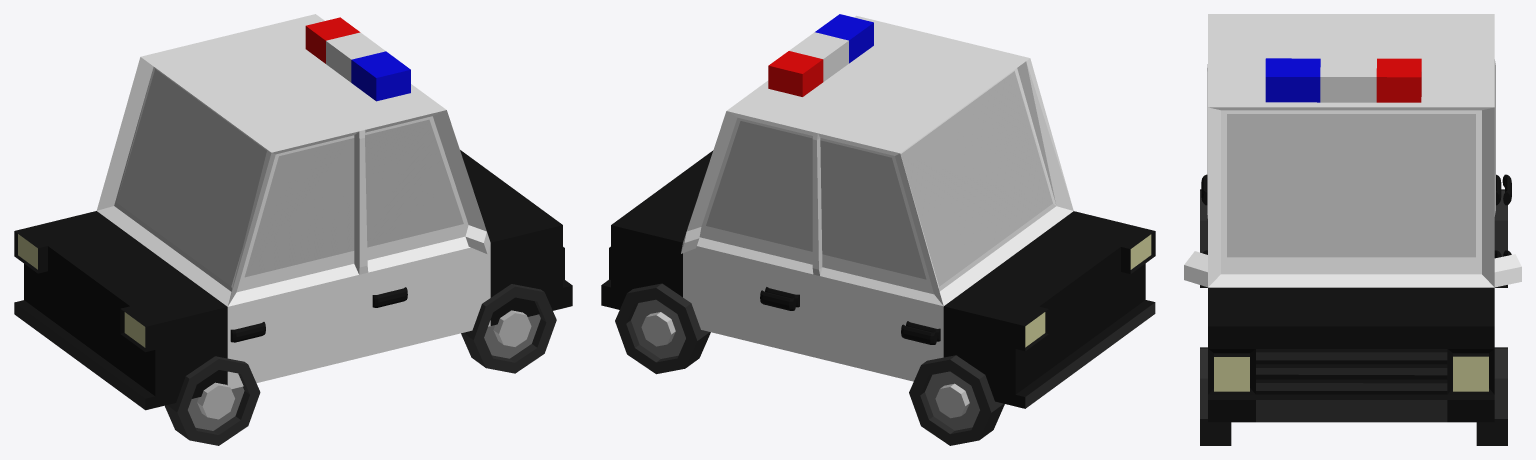
Rendered from police_car1.fbx.
3 renders of one model, left to right at view 1: azimuth 30°, elevation 25°; view 2: azimuth 150°, elevation 25°; view 3: azimuth 270°, elevation 25°, orthographic. The views are drawn at different scales.
Parts seen in each view (by area): view 1: car, wheel13, wheel14, siren; view 2: car, wheel12, wheel15, siren; view 3: car, siren, wheel12, wheel13, wheel15, wheel14.
Part boxes in pixels (x1,y1,x2,y2): car: [14, 14, 572, 410]; wheel13: [461, 284, 556, 373]; wheel14: [165, 356, 260, 445]; siren: [305, 17, 410, 101]; car: [601, 15, 1155, 408]; wheel12: [615, 283, 710, 374]; wheel15: [909, 355, 1004, 445]; siren: [768, 14, 873, 96]; car: [1184, 14, 1521, 422]; siren: [1265, 58, 1421, 102]; wheel12: [1476, 347, 1507, 445]; wheel13: [1200, 347, 1231, 445]; wheel15: [1494, 189, 1507, 287]; wheel14: [1200, 189, 1207, 287].
Bounding box in the file's own units: 8.85 × 5.93 × 5.54.
